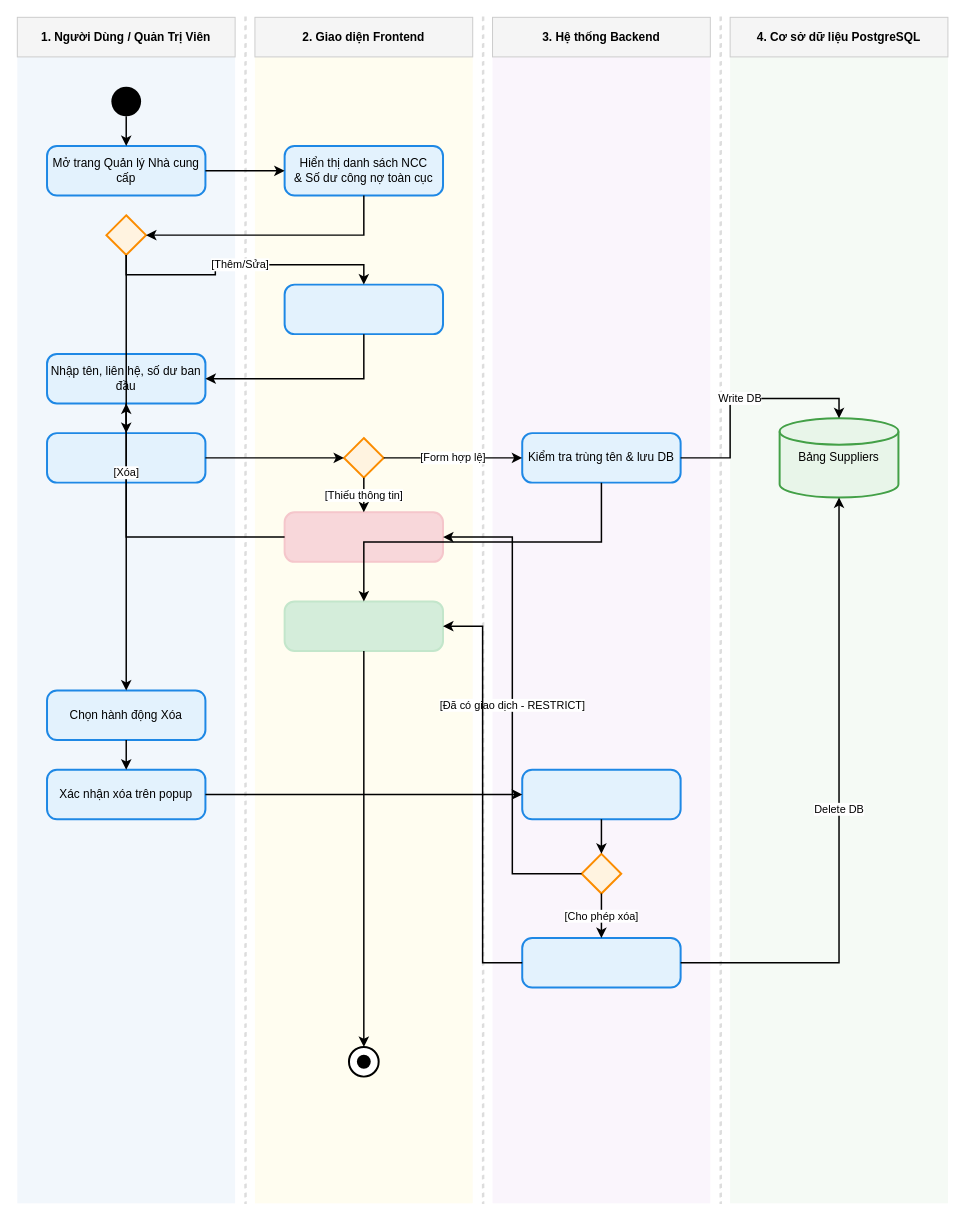
The diagram is 965 pixels wide and 1222 high, and some of its shapes have lost their labels. The shapes that lost their labels are listed below. From the top down, each one's centre as x and y in pixels, then its label:
the point at 363,309: Mở Form nhập thông tin NCC
the point at 126,457: Nhấn Lưu
the point at 363,536: Báo lỗi trùng tên NCC hoặc thiếu info
the point at 363,625: Toast thông báo lưu thành công
the point at 601,794: Kiểm tra ràng buộc khóa ngoại DB (RESTRICT nếu đã có giao dịch)
the point at 601,962: Thực hiện xóa trong DB
